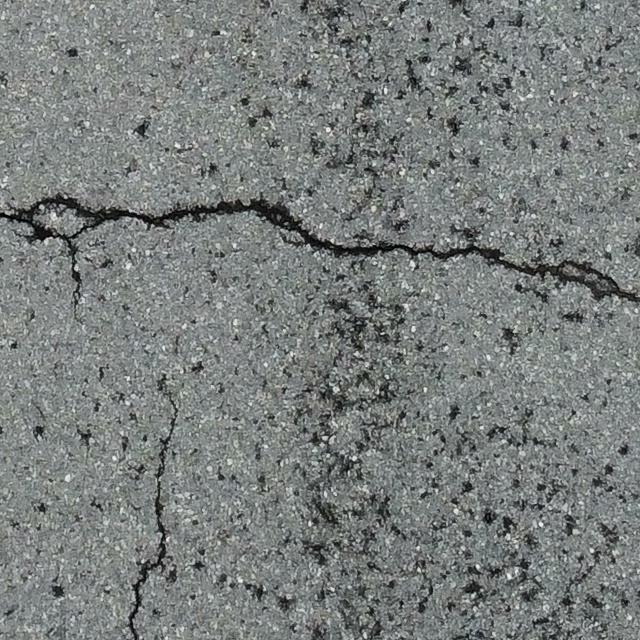LongitudinalCrack: (128, 393, 186, 640)
TransverseCrack: (1, 193, 640, 301)
